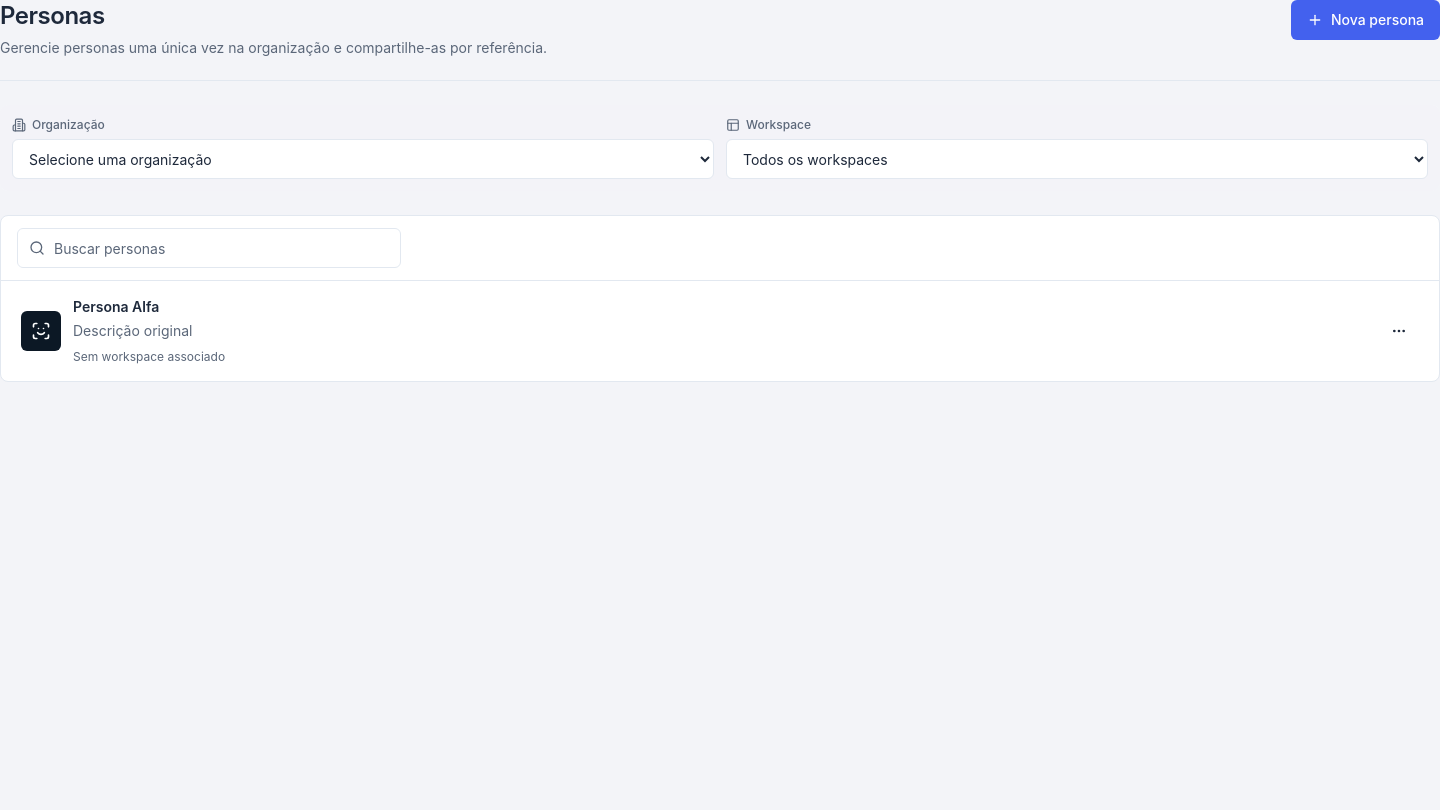
Test: AssetsPage persona editing › opens the persona edit form in a dialog and closes from cancel
Click the button named "Ações: Persona Alfa".
click(1399, 331)  # box [1379,311,1419,351]
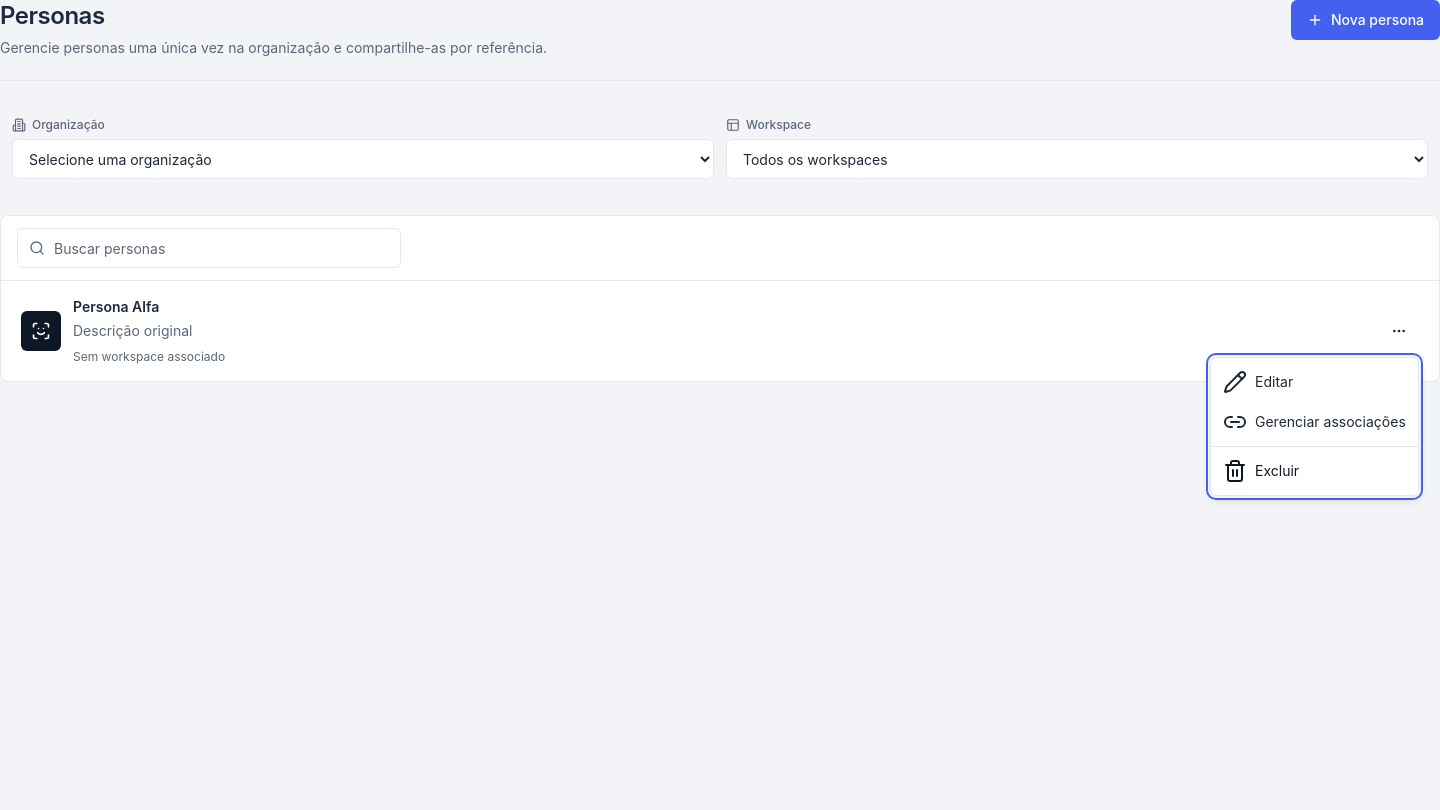
Click the menu item "Editar".
click(1258, 382)  # box [1223,370,1293,394]
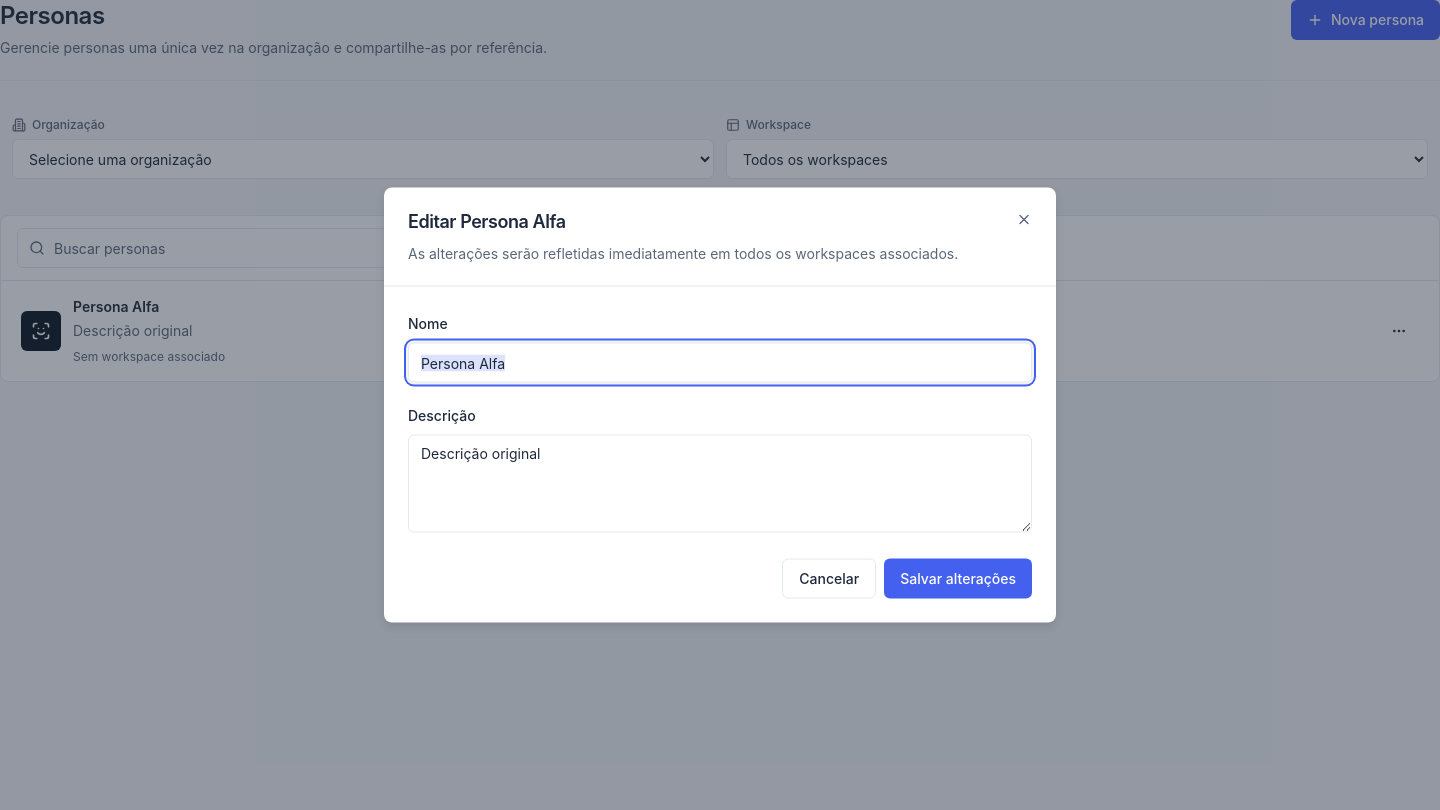
Check: the dialog "Editar Persona Alfa" is shown, box [384,188,1056,622]
Check: the field labelled "Nome" holds "Persona Alfa", box [408,342,1032,382]
Check: the text box labelled "Descrição" holds "Descrição original", box [408,434,1032,532]
Click the button "Cancelar".
click(829, 578)  # box [782,558,876,598]
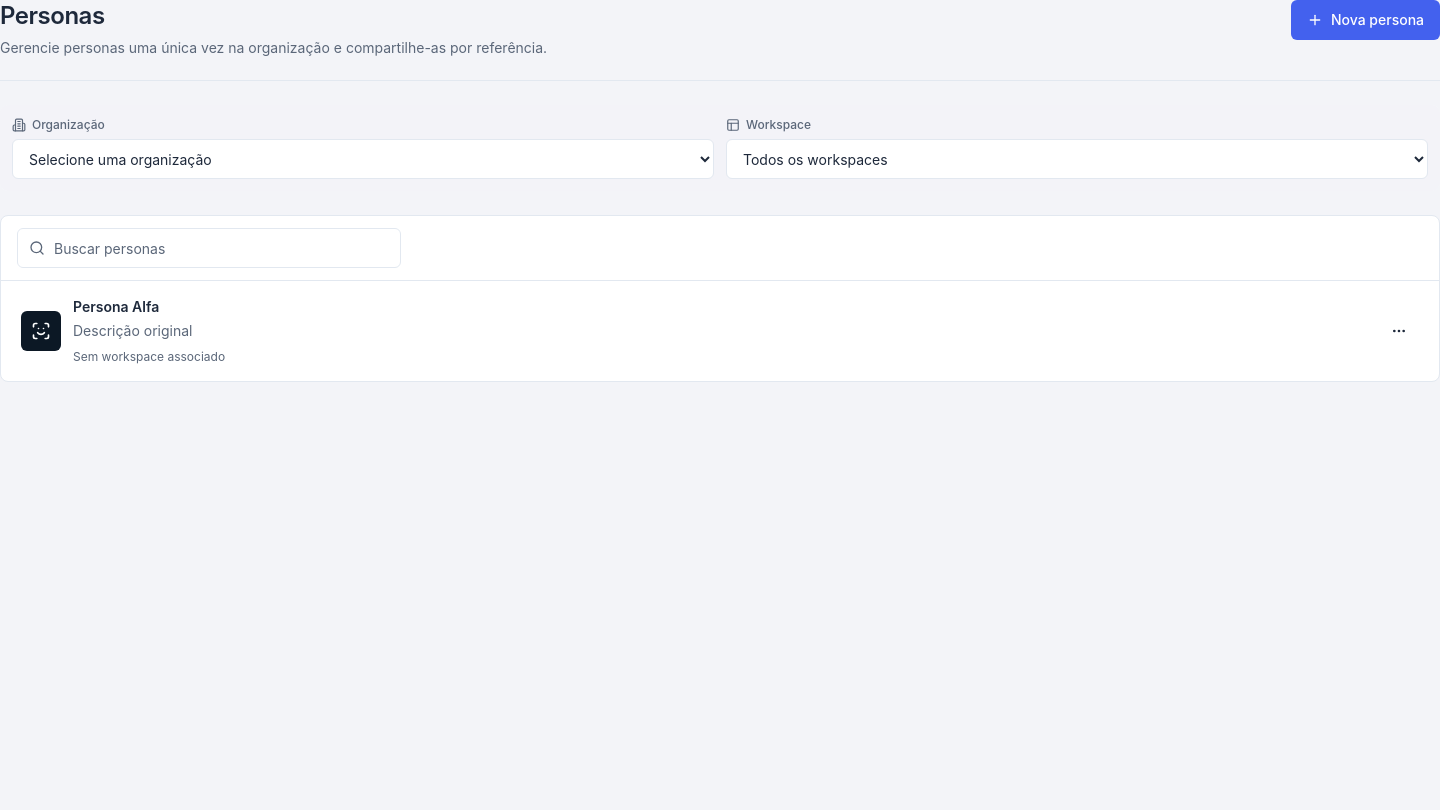
Check: the heading "Editar Persona Alfa" is gone
